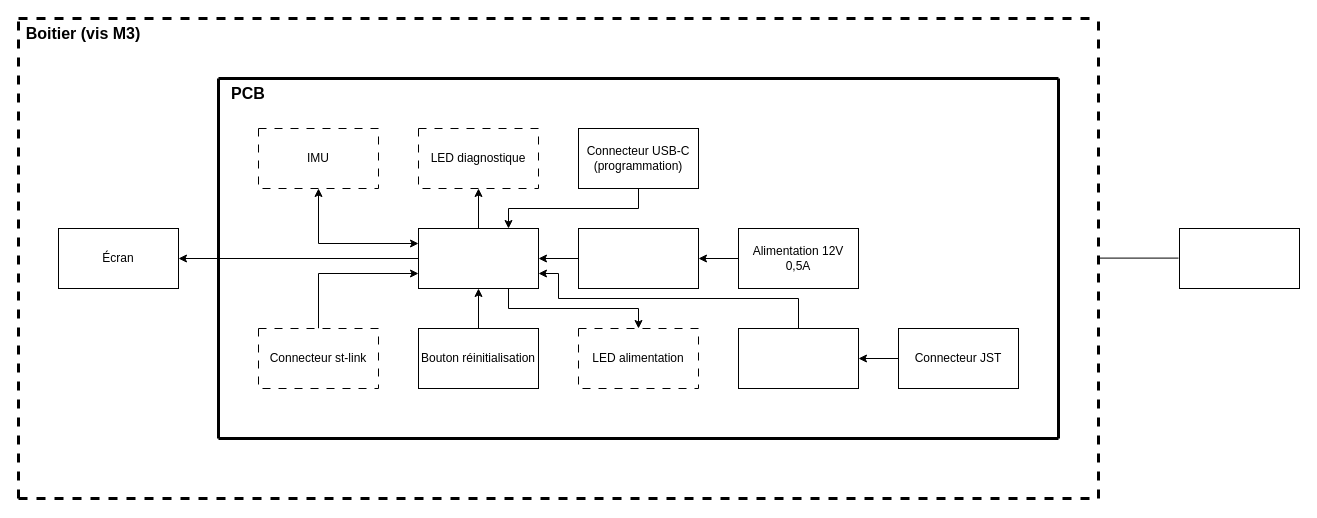
Some shapes in this 1317 by 518 pixel diagram are drawn without their labels. Each missing label, with the centre of its shape:
Communication module Ctrl: the point at 798,358
Convertisseur 5V: the point at 638,258
STM32: the point at 478,258
Trottinette: the point at 1239,258
